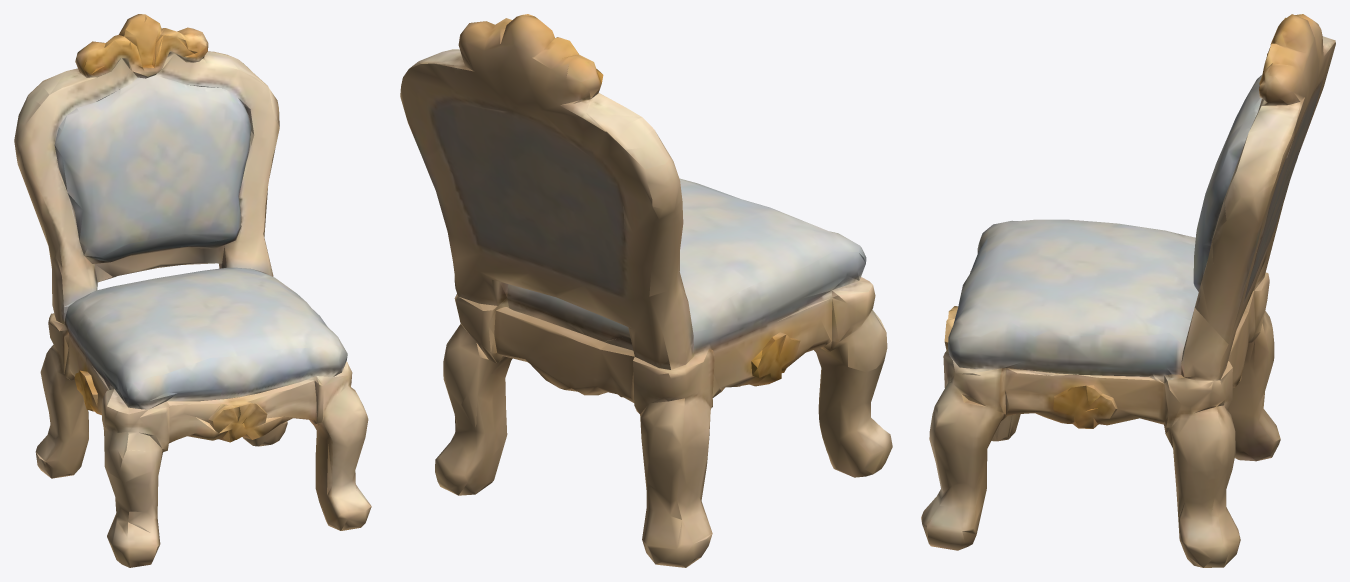
File: chair15.glb
3 views of the same model, side by side, from view 1: azimuth 30°, elevation 25°; view 2: azimuth 150°, elevation 25°; view 3: azimuth 270°, elevation 25° (orthographic). The views are drawn at different scales.
Bounding box in the file's own units: 0.165 × 0.2435 × 0.1855.
1 material, 1 textured.
